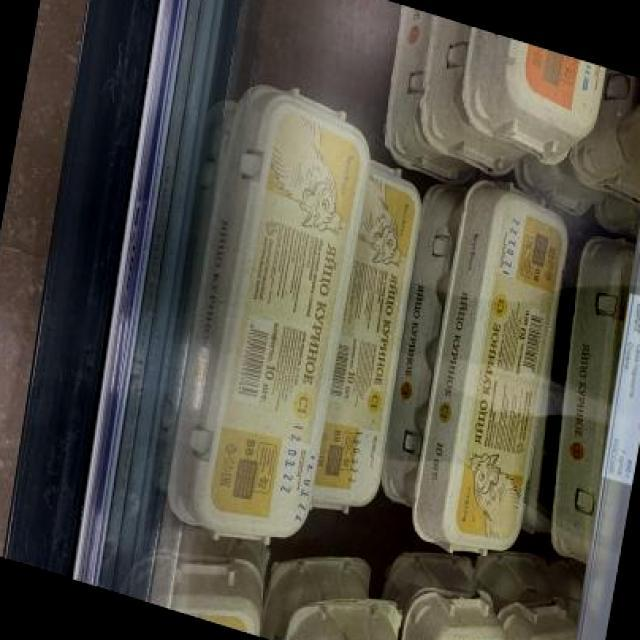egg: (160, 68, 380, 569), (388, 160, 582, 582), (305, 160, 430, 530), (461, 29, 610, 174)
